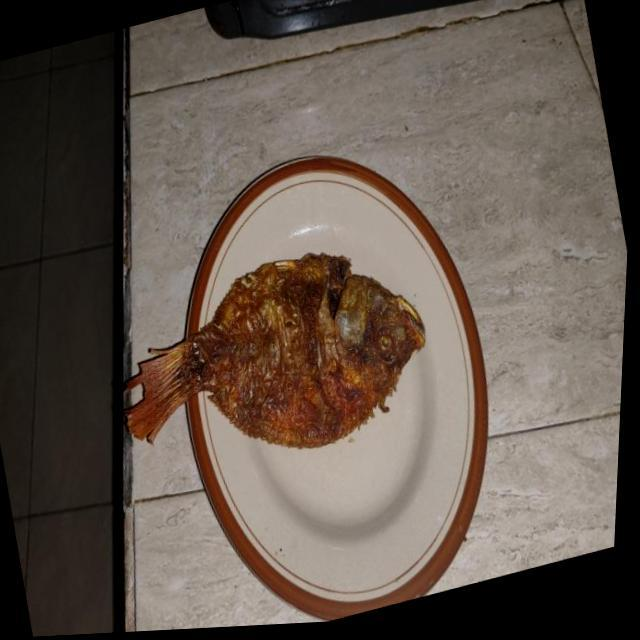ikan_mujair: (125, 252, 425, 448)
